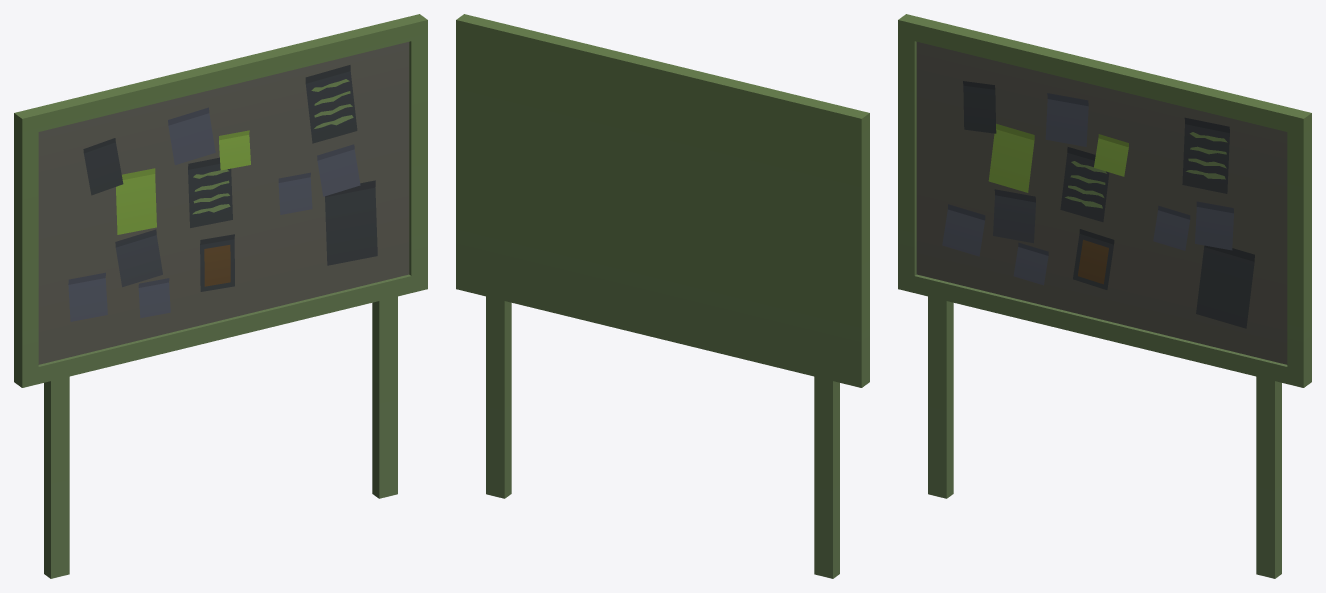
3 renders of one model, left to right at view 1: azimuth 30°, elevation 25°; view 2: azimuth 150°, elevation 25°; view 3: azimuth 330°, elevation 25°, orthographic.
Visible parts, largest first — view 1: Ad_01; view 2: Ad_01; view 3: Ad_01.
Boxes of the visible parts, x1,y1,x2,y2 form: Ad_01: (14,14,427,578); Ad_01: (456,14,869,578); Ad_01: (898,14,1311,578).
Bounding box in the file's own units: 1.63 × 1.8 × 0.0815.
